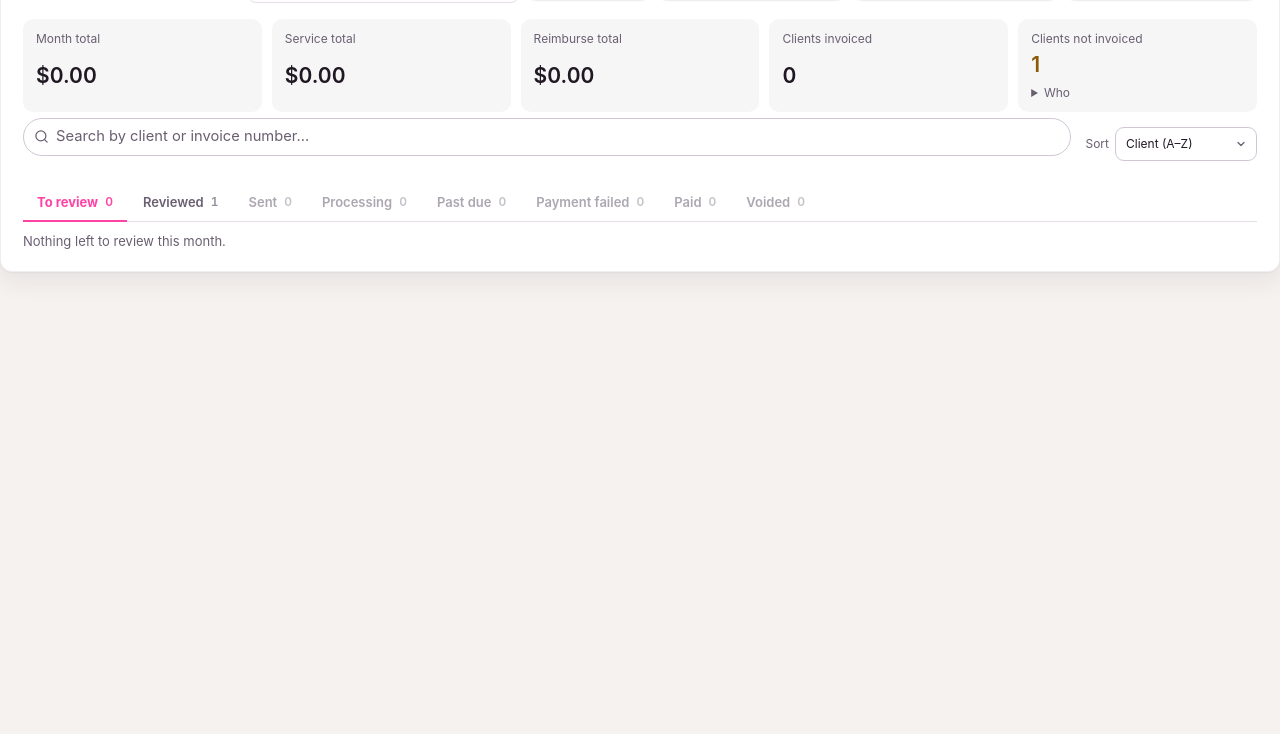
Test: the paid-but-not-applied hold (I-1) › shows its sentence with NO Send anyway (the server never lifts it) and re-reads the month
Click the tab "Reviewed 1" at (181, 203), box [129, 184, 232, 222]
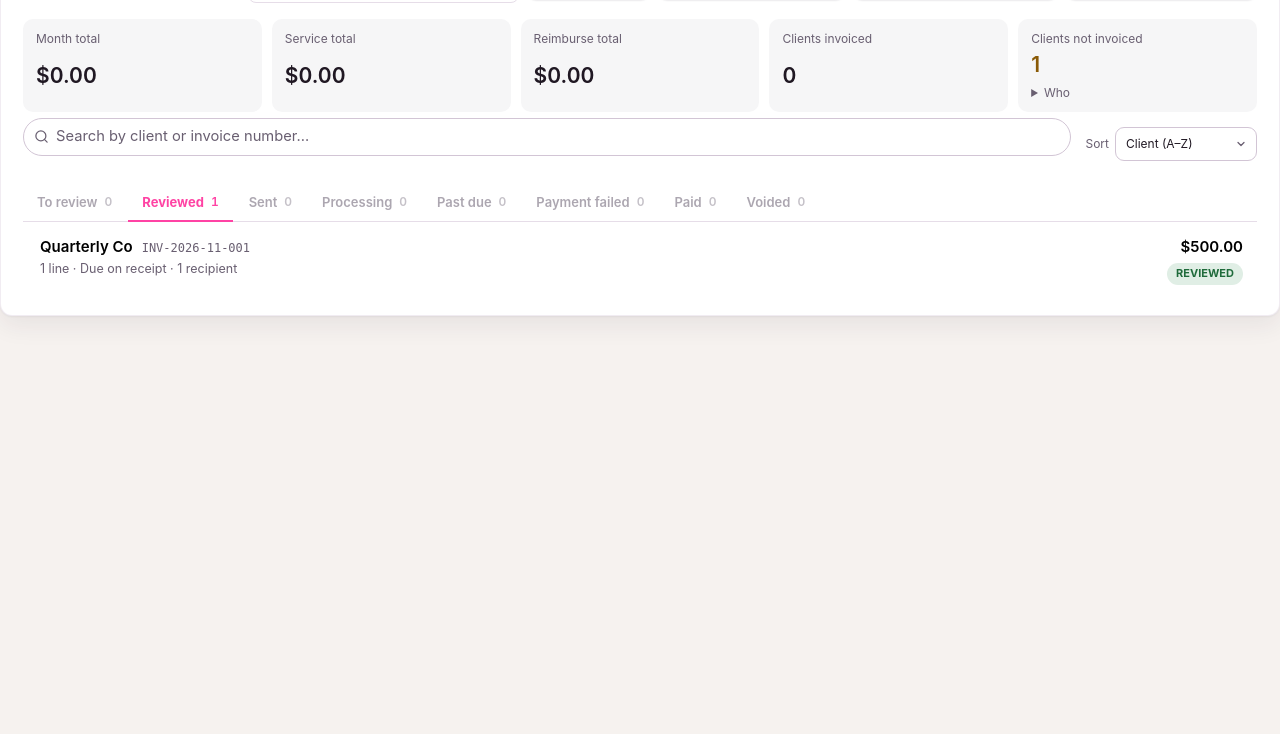
Click the text "INV-2026-11-001" at (196, 249), box [142, 240, 250, 258]
(page scrolled)
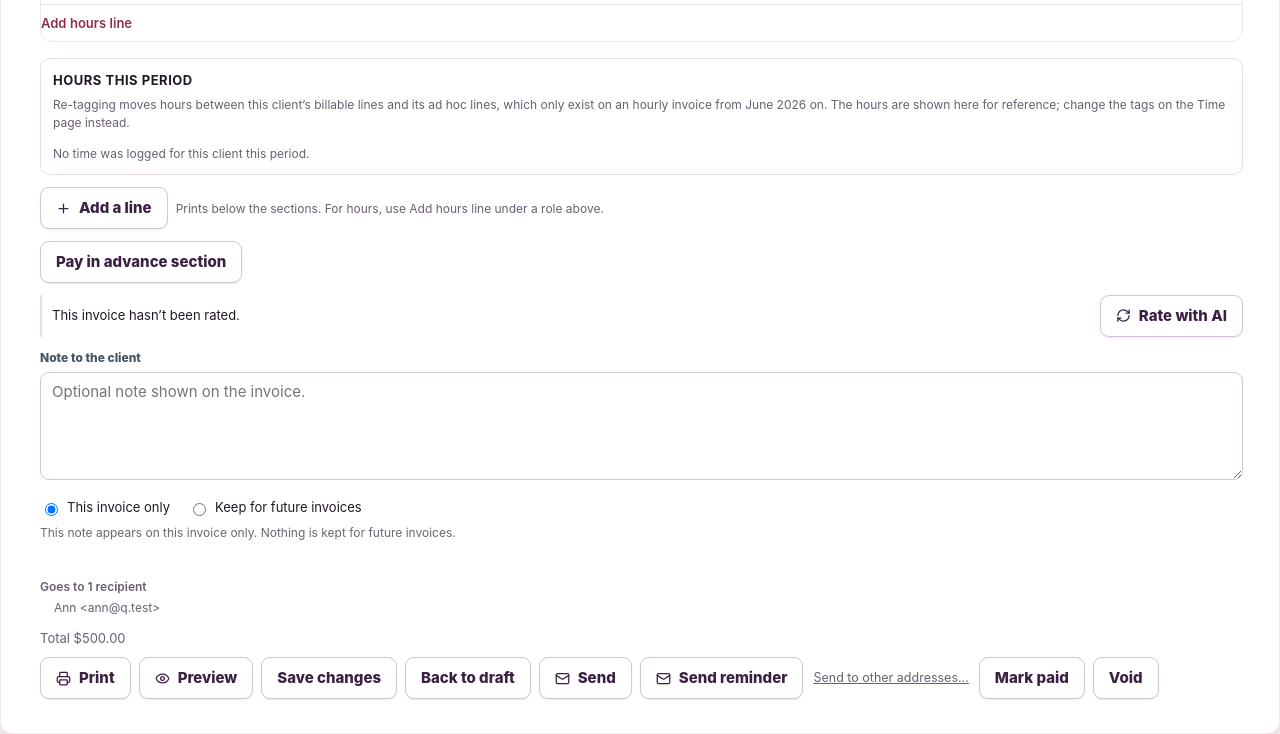
Click the button "Send" at (585, 678), box [539, 657, 632, 699]
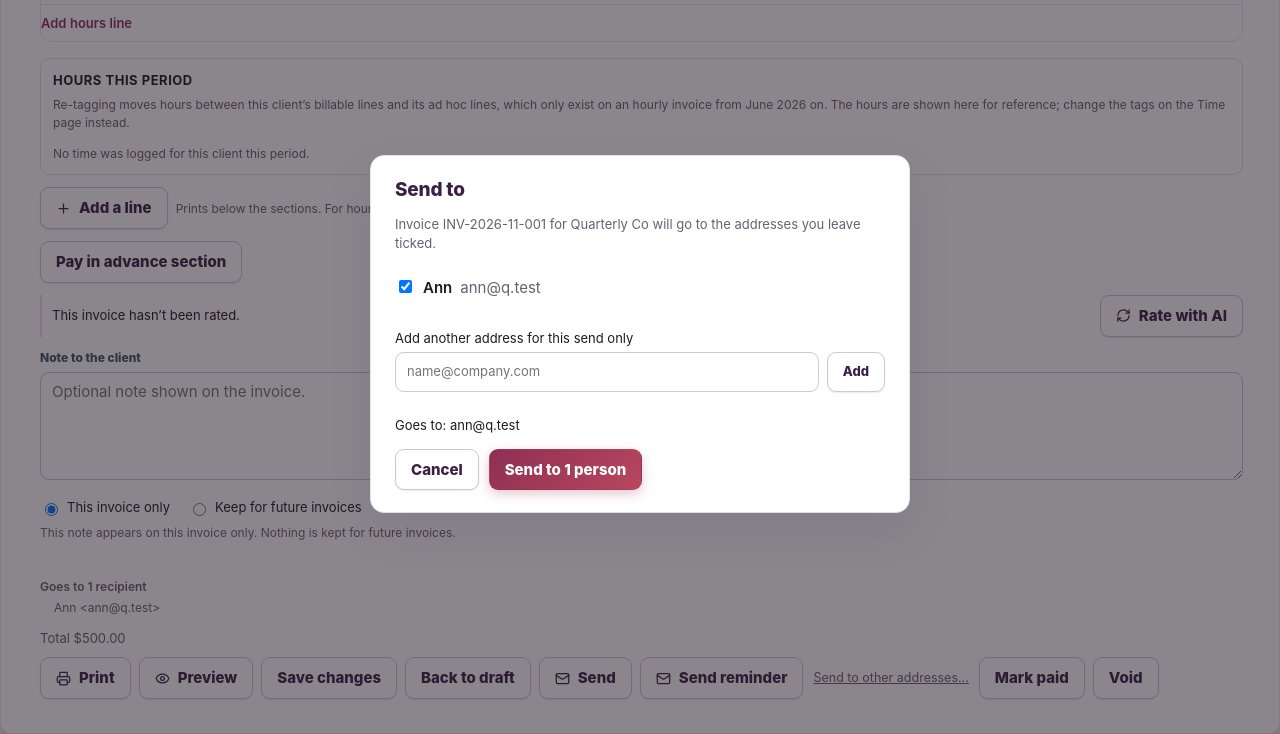
Click the button "Send to 1 person" at (566, 470), box [489, 449, 642, 490]
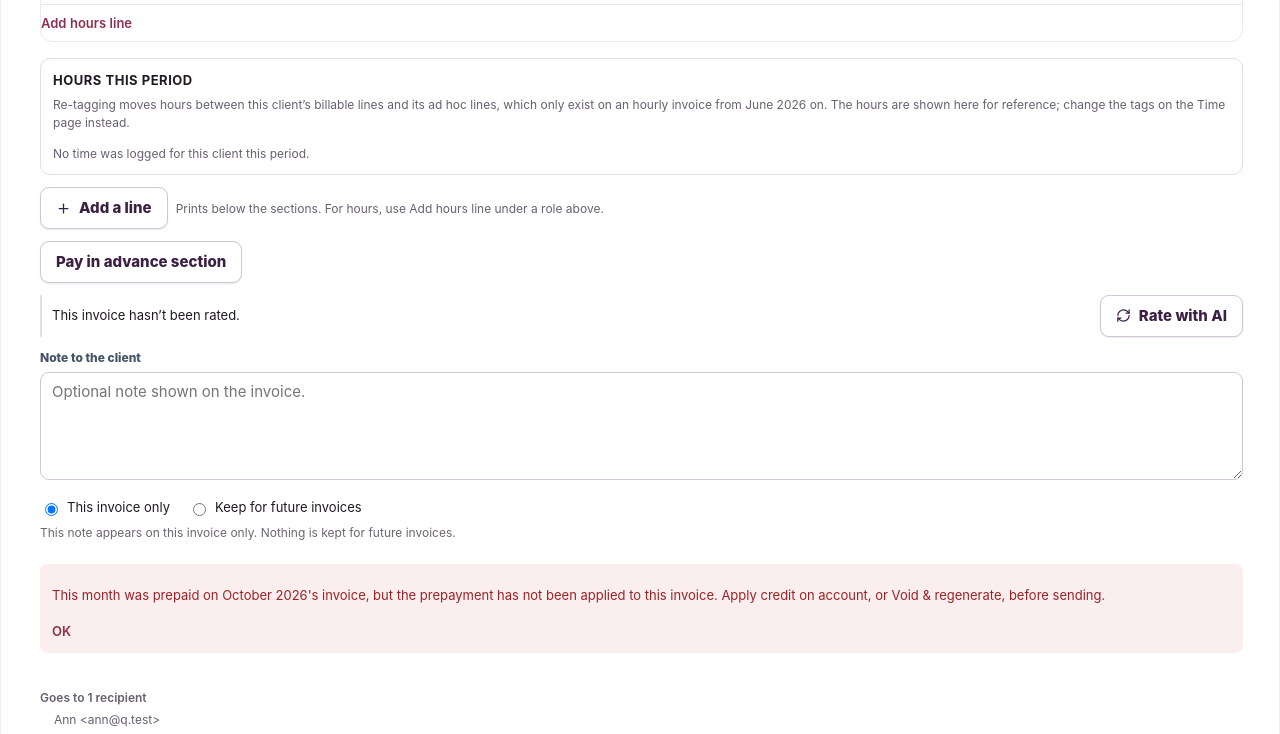
Expected: the button "OK" is shown, [52, 618, 71, 644]
Expected: the message shows "This month was prepaid on October 2026's invoice, but the prepayment has not been applied to this invoice. Apply credit on account, or Void & regenerate, before", [52, 587, 1105, 603]
